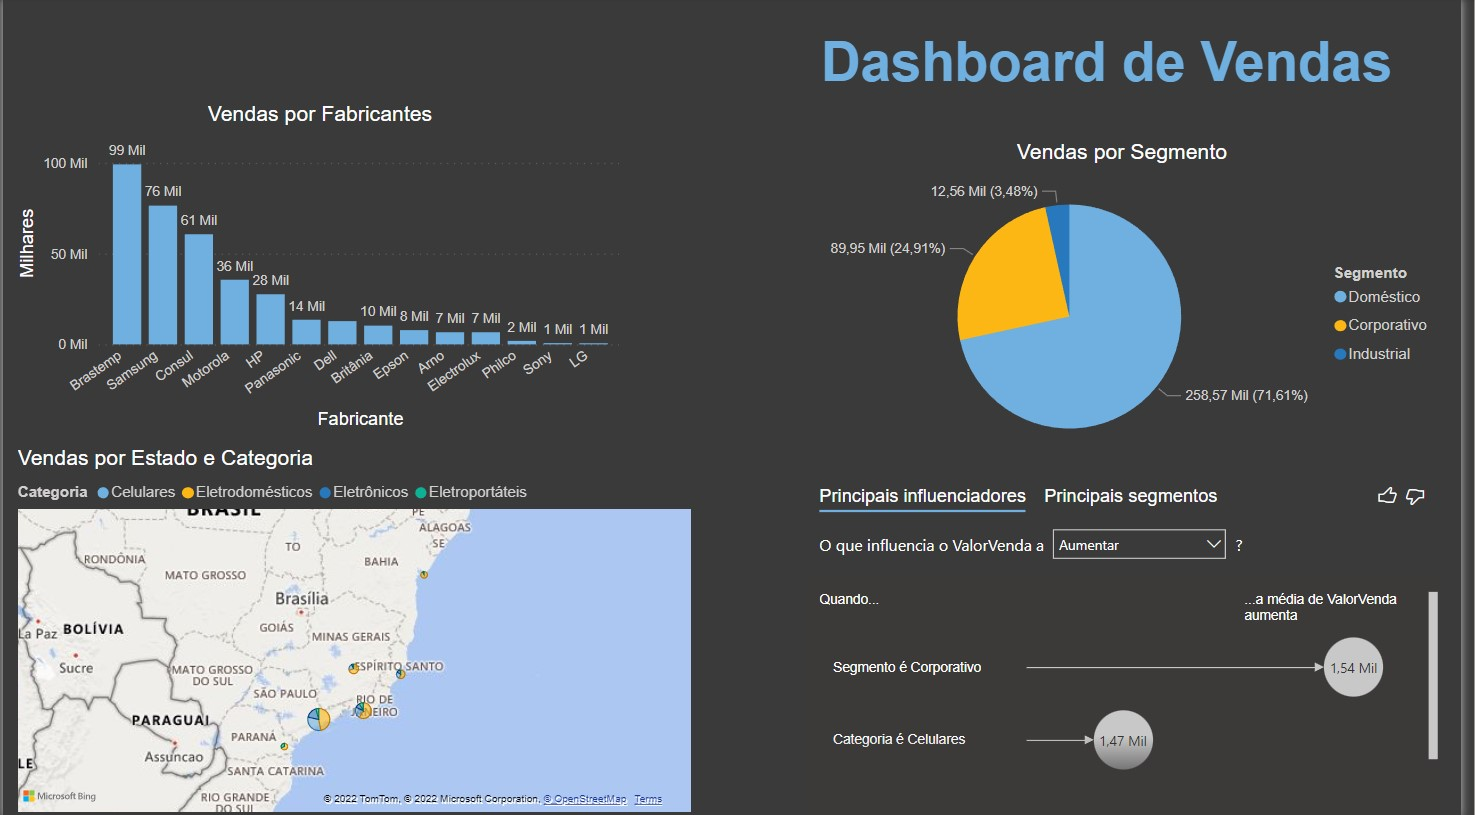

The page's visual inventory and layout, read from the dashboard file:
{"tool":"powerbi","page":{"name":"Página 1","canvas":[1280,720],"ordinal":0},"visuals":[{"type":"clusteredColumnChart","title":"Vendas por Fabricantes","fields":{"Category":["DIM_PRODUTO.Fabricante"],"Y":["Sum(TB_FATO.ValorVenda)"]},"box":[7.9,91.3,540.9,291.5],"z":0},{"type":"map","title":"Vendas por Estado e Categoria","fields":{"Series":["DIM_PRODUTO.Categoria"],"Category":["DIM_LOJA.Estado"],"Size":["Sum(TB_FATO.ValorVenda)"]},"box":[7.8,392.9,601.1,326.8],"z":1000},{"type":"pieChart","title":"Vendas por Segmento","fields":{"Y":["Sum(TB_FATO.ValorVenda)"],"Category":["DIM_PRODUTO.Segmento"]},"box":[699.8,124.7,565.5,288.9],"z":2000},{"type":"textbox","box":[699.8,23.7,538.2,67.6],"z":4000},{"type":"keyDriversVisual","fields":{"Target":["TB_FATO.ValorVenda"],"ExplainBy":["DIM_PRODUTO.Segmento","DIM_PRODUTO.Categoria"]},"box":[700,414,565,306],"z":4001}]}

Visuals, with their boxes in screenshot pixels (x1, y1, x2, y2), scaled from the page's 1280x720 canvas onto the 1475x815 screenshot:
"Vendas por Fabricantes" clusteredColumnChart: box(9, 103, 632, 433)
"Vendas por Estado e Categoria" map: box(9, 445, 702, 814)
"Vendas por Segmento" pieChart: box(806, 141, 1458, 468)
textbox: box(806, 27, 1427, 103)
keyDriversVisual - TB_FATO.ValorVenda x DIM_PRODUTO.Segmento: box(807, 469, 1458, 814)
